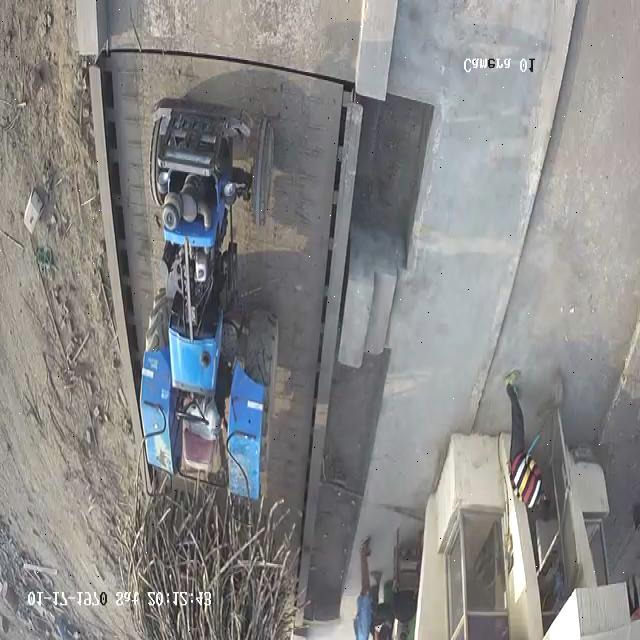Tratores - v5 YOLO V8L 2024-11-13: (139, 99, 280, 484)
